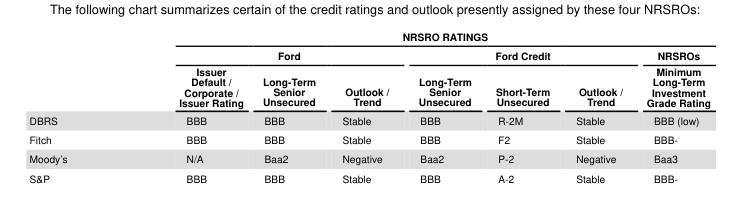table: (28, 28, 709, 184)
table column: (122, 28, 252, 184), (28, 28, 122, 184), (482, 28, 562, 184), (403, 28, 482, 184), (252, 28, 328, 184), (328, 28, 403, 184), (634, 28, 709, 184), (562, 28, 634, 184)
table column header: (28, 28, 709, 111)
table row: (28, 63, 709, 111), (28, 148, 709, 168), (28, 129, 709, 148), (28, 45, 709, 63), (28, 111, 709, 129), (28, 28, 709, 45), (28, 168, 709, 184)
table spanning cell: (122, 28, 709, 45), (122, 45, 403, 63), (634, 45, 709, 111), (403, 45, 634, 63)
